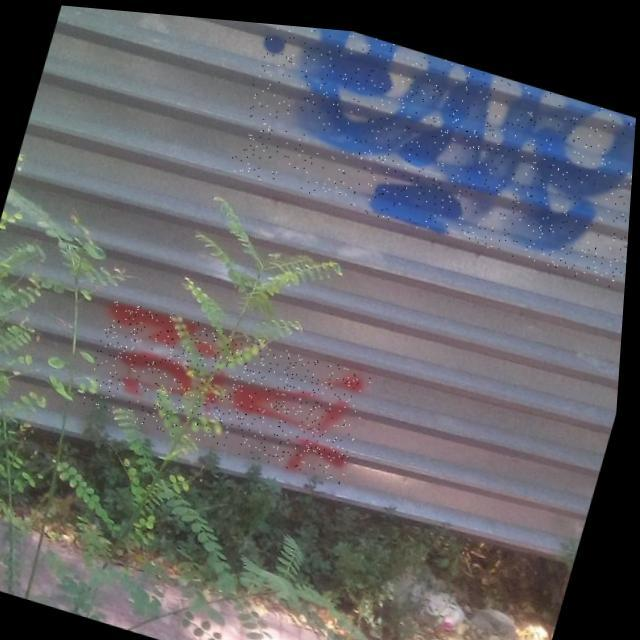-: (226, 17, 640, 280), (83, 292, 380, 479)
